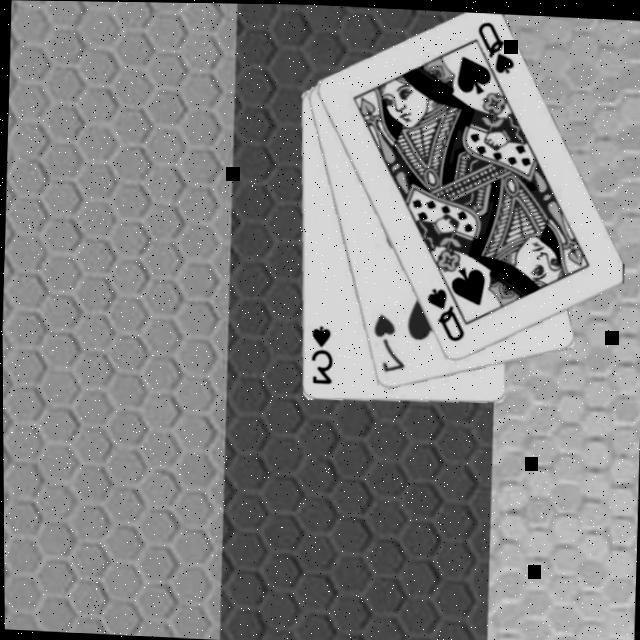3S: (304, 323, 333, 388)
7H: (367, 311, 407, 376)
QS: (420, 284, 466, 345), (471, 18, 517, 77)
